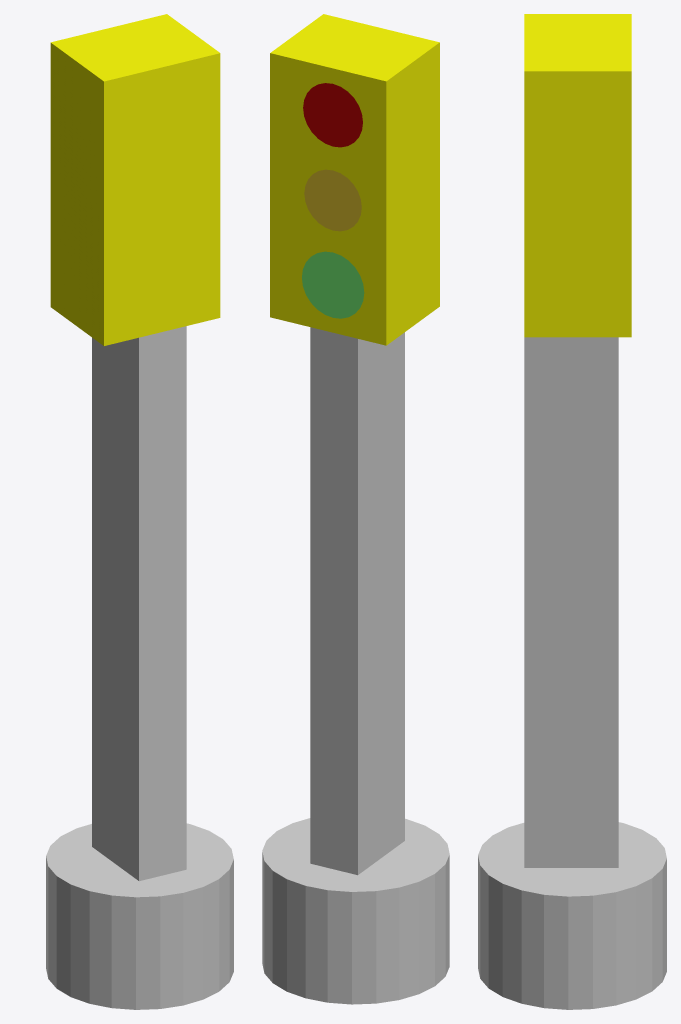
File: Traffic%20Light.glb
3 views of the same model, side by side, from view 1: azimuth 30°, elevation 25°; view 2: azimuth 150°, elevation 25°; view 3: azimuth 270°, elevation 25° (orthographic).
Visible parts, largest first — view 1: Model; view 2: Model; view 3: Model.
Boxes of the visible parts, x1,y1,x2,y2 form: Model: [46, 14, 233, 1009]; Model: [262, 14, 449, 1004]; Model: [478, 14, 666, 1009].
Size of the model in its own units: 8.86 by 43.93 by 8.12.
